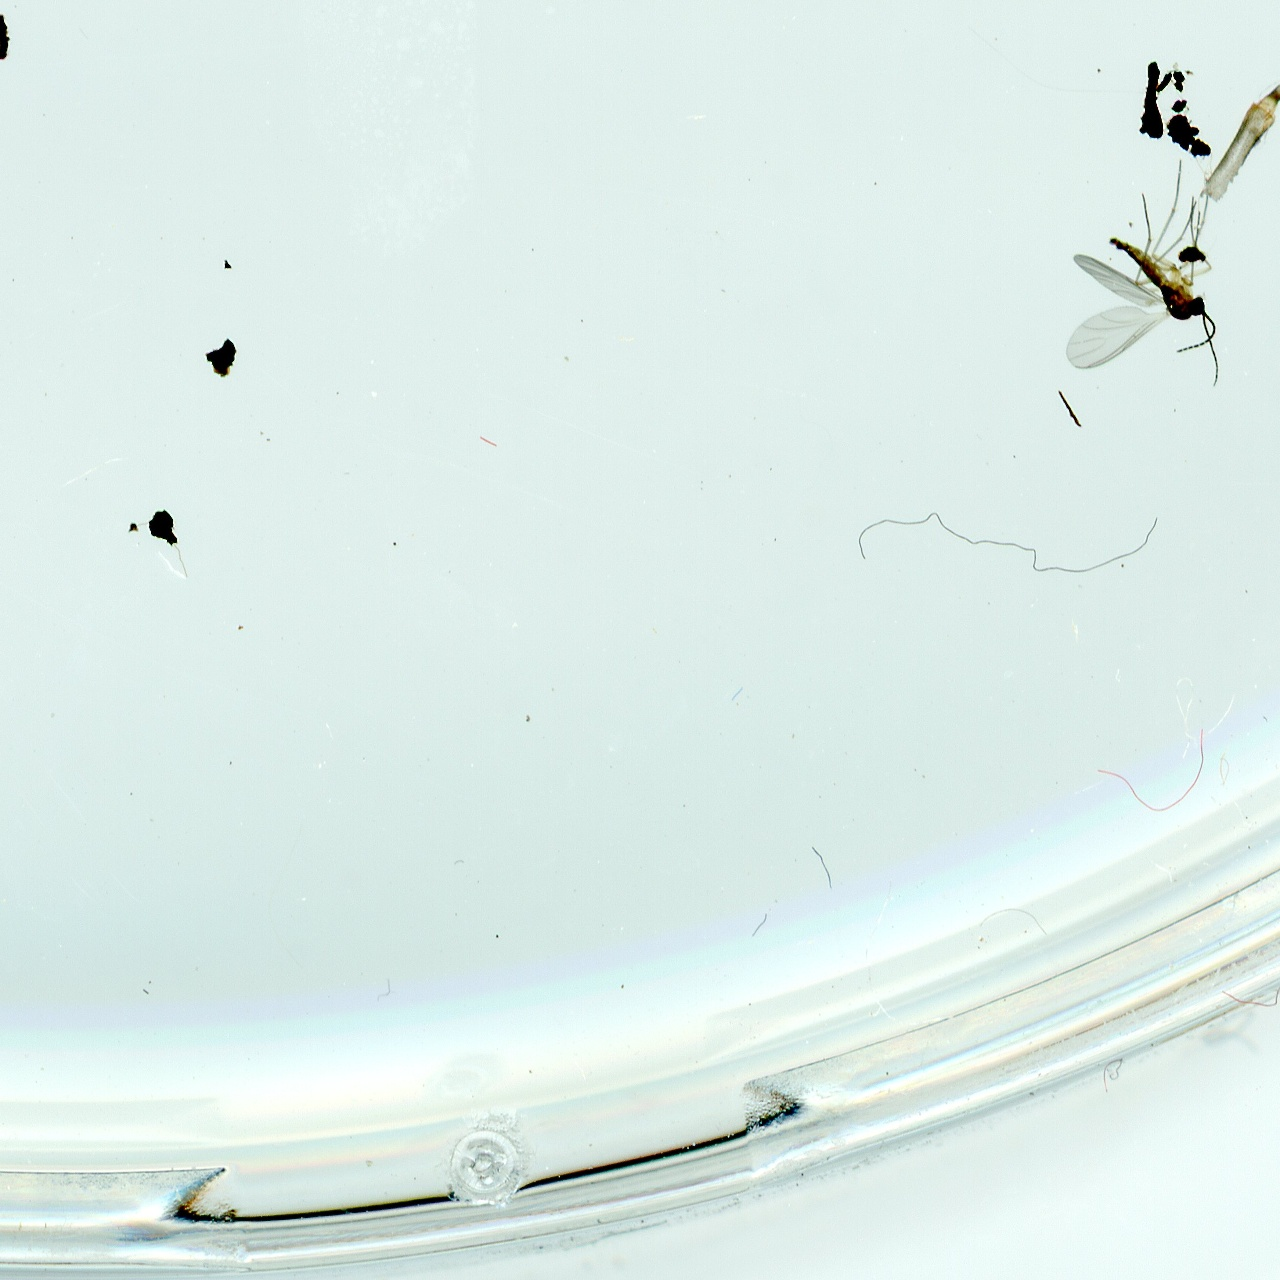arthropod: (1058, 151, 1228, 391)
